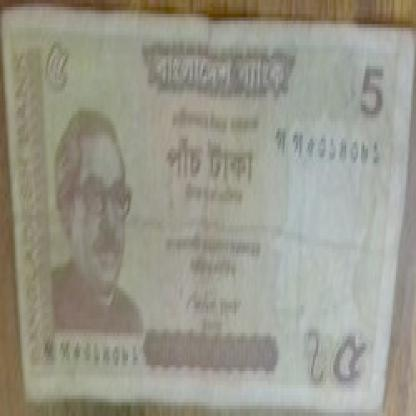Five Taka: (35, 24, 75, 108), (328, 326, 371, 395), (352, 56, 388, 128)
